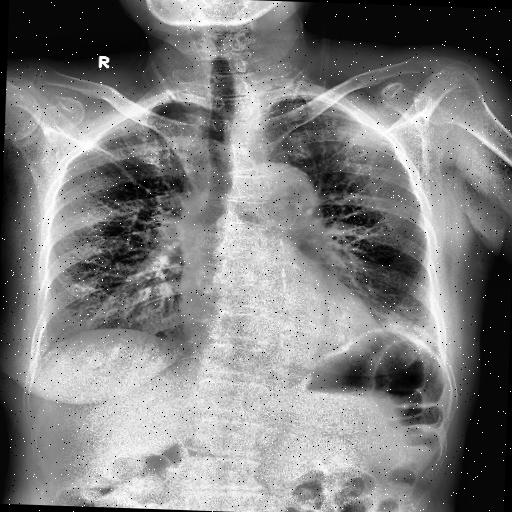0- Aortic enlargement: (225, 162, 320, 246), (249, 162, 326, 246), (246, 162, 318, 248)
6- Infiltration: (124, 262, 189, 342)
7- Lung Opacity: (124, 262, 189, 342)
